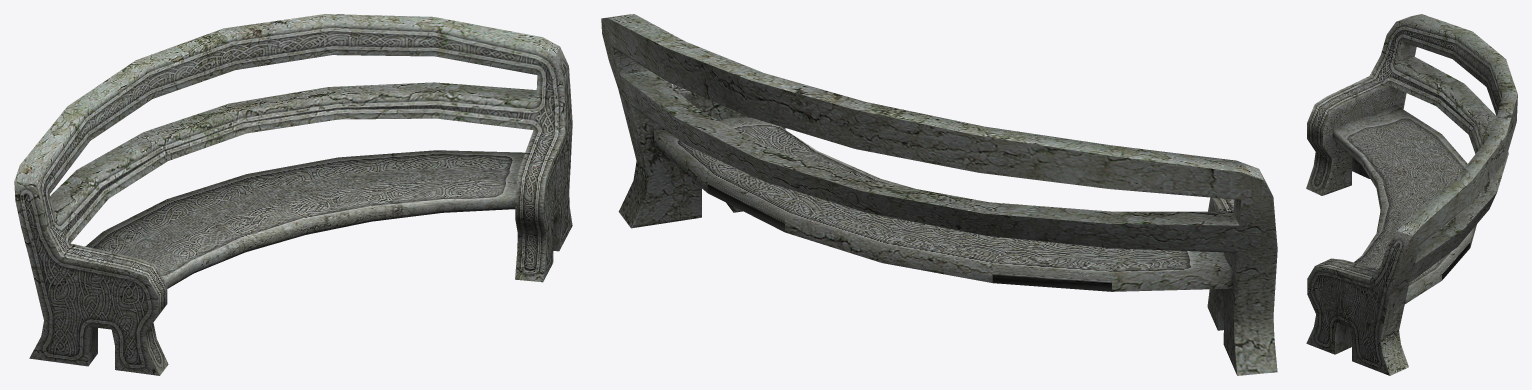
Rendered from fantasybench2.fbx.
3 renders of one model, left to right at view 1: azimuth 30°, elevation 25°; view 2: azimuth 150°, elevation 25°; view 3: azimuth 270°, elevation 25°, orthographic. The views are drawn at different scales.
Visible parts, largest first — view 1: fantasybench2; view 2: fantasybench2; view 3: fantasybench2.
Boxes of the visible parts, x1,y1,x2,y2 form: fantasybench2: (14,14,572,375); fantasybench2: (601,14,1277,375); fantasybench2: (1306,14,1517,375).
Bounding box in the file's own units: 3.62 × 1.29 × 1.45.
